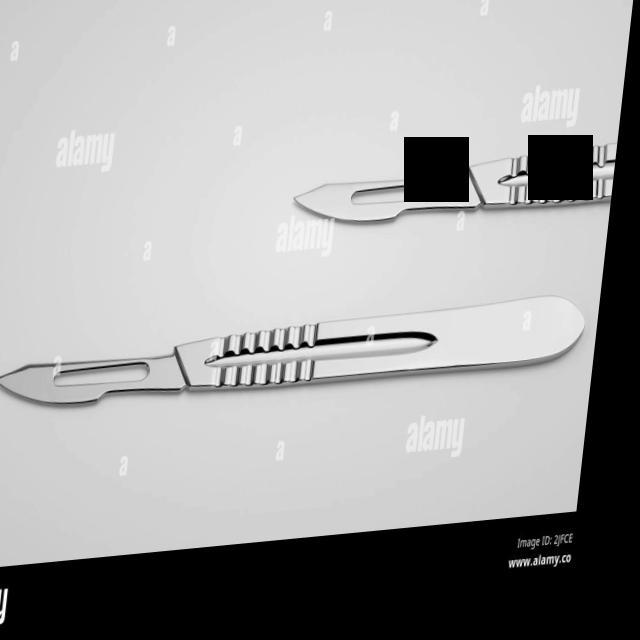Knife handle: (70, 302, 606, 416)
Surgical blade: (286, 156, 491, 250), (0, 341, 204, 426)
